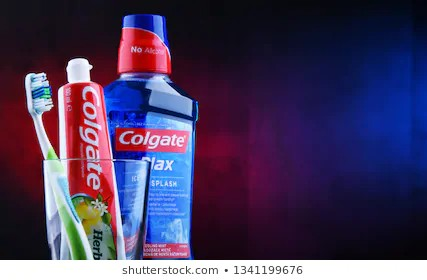colgate-Plax: (99, 14, 196, 259)
toothbrush: (20, 65, 58, 184)
